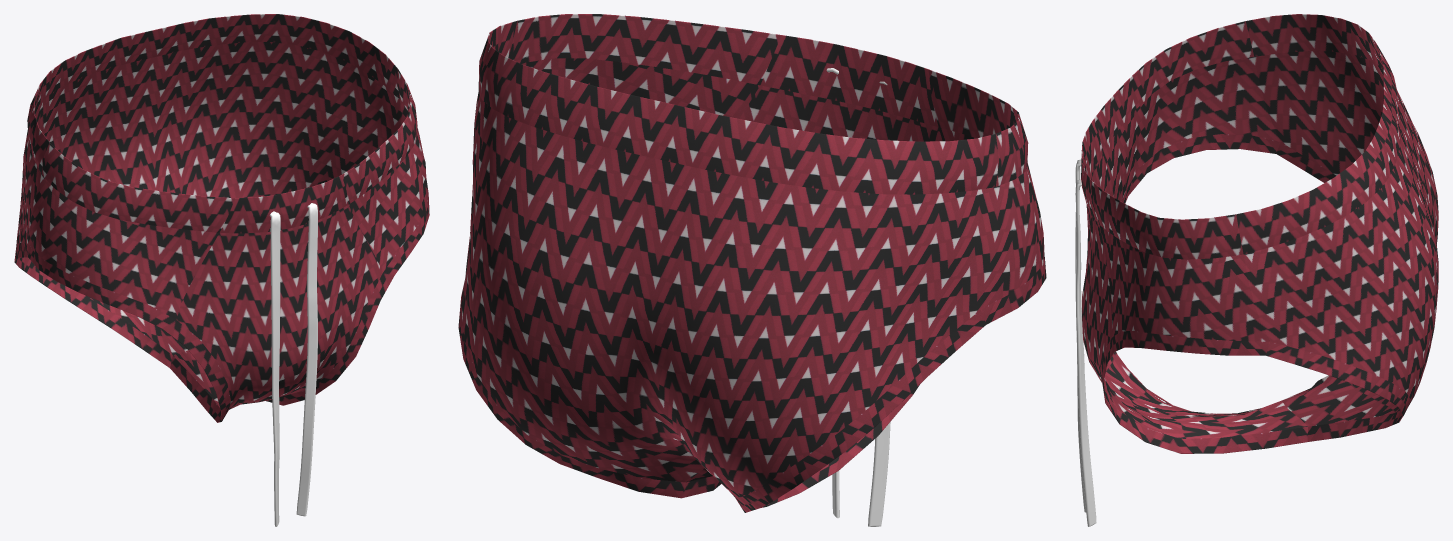
File: SwimBrief_thick_texture_20230315.gltf
The picture shows the model from 3 angles, left to right: view 1: azimuth 30°, elevation 25°; view 2: azimuth 150°, elevation 25°; view 3: azimuth 270°, elevation 25°; orthographic projection. The views are drawn at different scales.
Visible parts, largest first — view 1: Cloth, Trim; view 2: Cloth, Trim; view 3: Cloth, Trim.
Boxes of the visible parts, x1,y1,x2,y2 form: Cloth: (14, 14, 429, 422); Trim: (269, 203, 317, 526); Cloth: (458, 14, 1046, 512); Trim: (826, 68, 890, 526); Cloth: (1081, 14, 1438, 453); Trim: (1075, 159, 1096, 526).
Bounding box in the file's own units: 34.54 × 35.08 × 26.44.
Materials: 10 (8 with a texture image).
